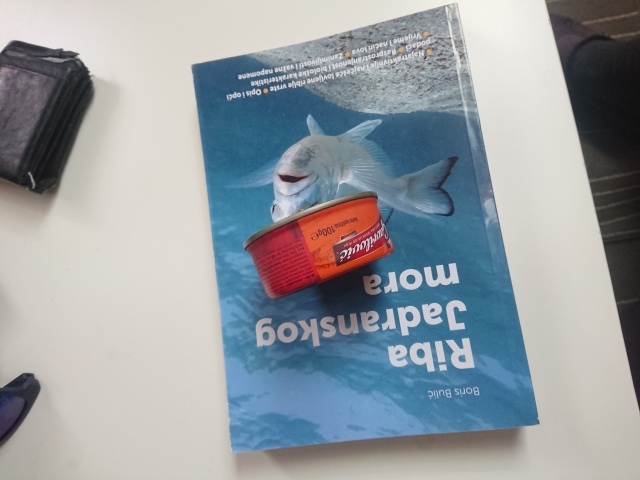Gavrilovic Pork Liver Pate 100g: (240, 188, 397, 302)
